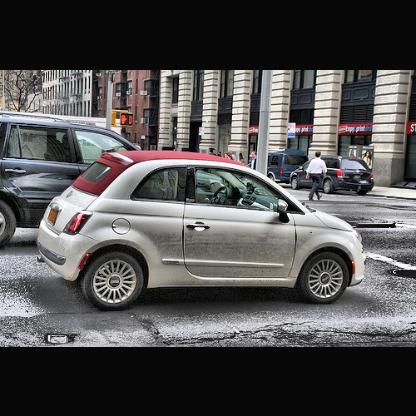FIAT 500 Convertible 2012: (36, 149, 369, 311)
